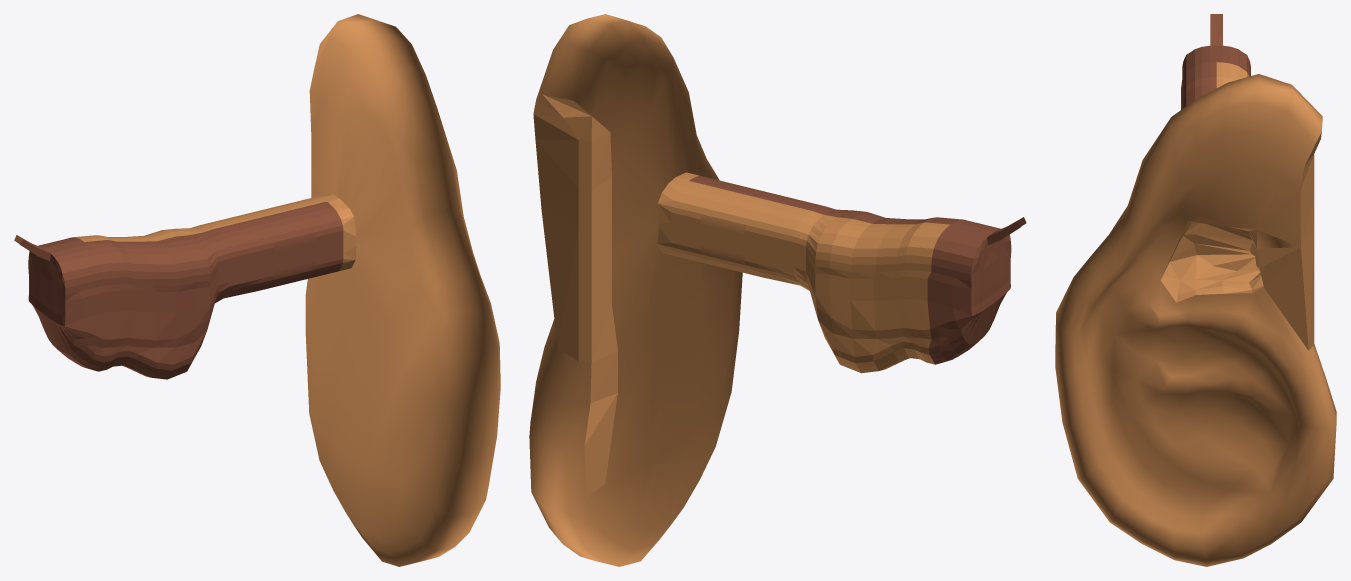
File: Ear with Canal Turbo (1).FBX
3 views of the same model, side by side, from view 1: azimuth 30°, elevation 25°; view 2: azimuth 150°, elevation 25°; view 3: azimuth 270°, elevation 25° (orthographic). The views are drawn at different scales.
Parts seen in each view (by area): view 1: Drum cover002; view 2: Drum cover002; view 3: Drum cover002.
Part boxes in pixels (x1,y1,x2,y2): Drum cover002: (14,14,500,566); Drum cover002: (529,14,1026,566); Drum cover002: (1055,14,1336,566).
Bounding box in the file's own units: 93.06 × 112 × 59.15.
Materials: 2 (2 with a texture image).
